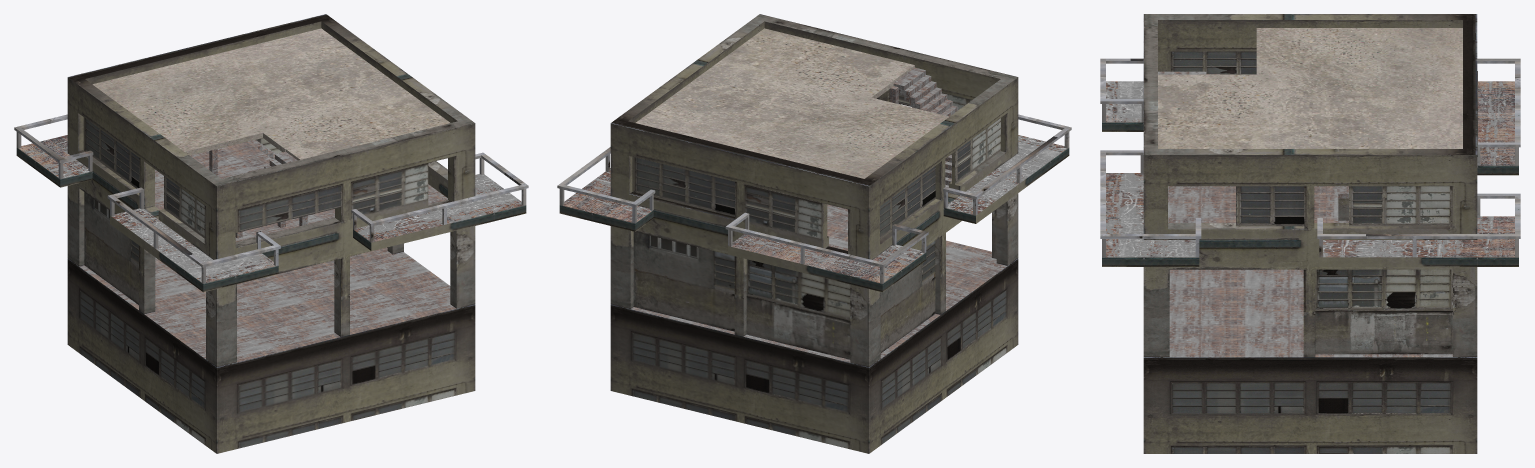
File: BagBuilding9High.fbx
The picture shows the model from 3 angles, left to right: view 1: azimuth 30°, elevation 25°; view 2: azimuth 150°, elevation 25°; view 3: azimuth 270°, elevation 25°; orthographic projection. The views are drawn at different scales.
Parts seen in each view (by area): view 1: mainA300, stairsfloorsA300, roofA300, railsA300; view 2: mainA300, roofA300, stairsfloorsA300, railsA300; view 3: mainA300, roofA300, stairsfloorsA300, railsA300.
Boxes of the visible parts, x1=… form: mainA300: x1=16, y1=14, x2=526, y2=453; stairsfloorsA300: x1=19, y1=135, x2=522, y2=362; roofA300: x1=92, y1=28, x2=449, y2=160; railsA300: x1=14, y1=114, x2=528, y2=283; mainA300: x1=559, y1=14, x2=1069, y2=453; roofA300: x1=636, y1=28, x2=948, y2=178; stairsfloorsA300: x1=563, y1=67, x2=1066, y2=362; railsA300: x1=557, y1=104, x2=1071, y2=283; mainA300: x1=1102, y1=14, x2=1518, y2=453; roofA300: x1=1158, y1=28, x2=1462, y2=148; stairsfloorsA300: x1=1106, y1=71, x2=1514, y2=357; railsA300: x1=1100, y1=58, x2=1520, y2=257.
Size of the model in its own units: 21.19 by 16.62 by 21.19.
